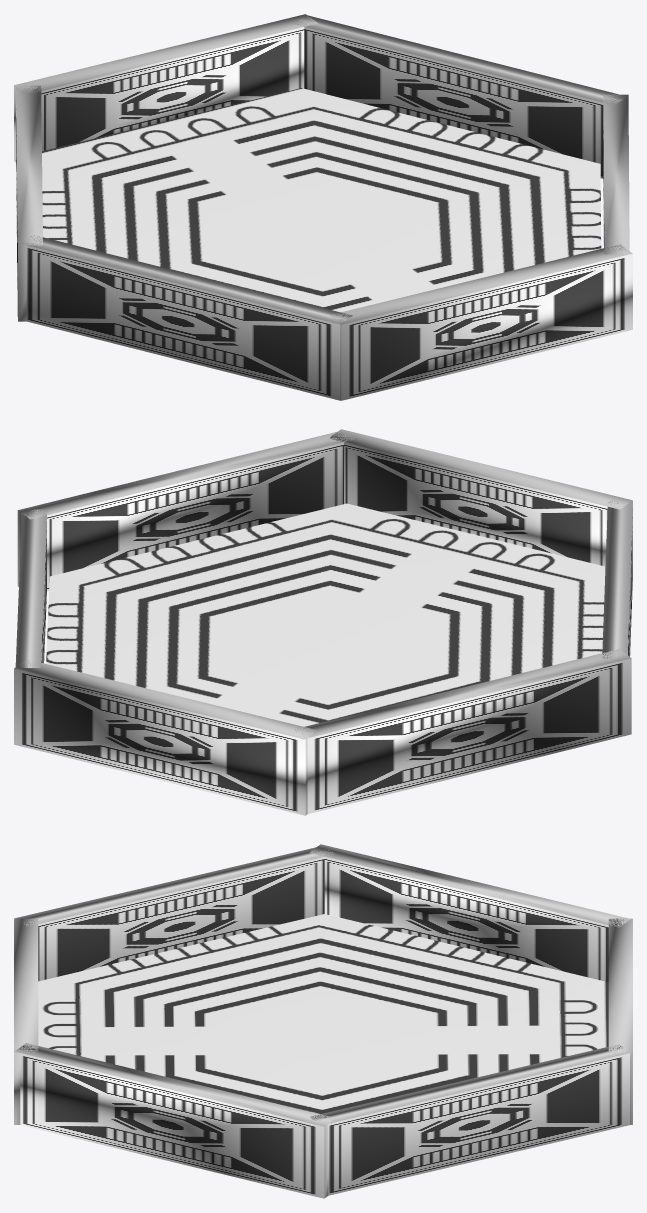
The model's file is plataformaMonstreFinal.fbx.
3 views of the same model, one above another, from view 1: azimuth 30°, elevation 25°; view 2: azimuth 150°, elevation 25°; view 3: azimuth 270°, elevation 25° (orthographic). The views are drawn at different scales.
Parts seen in each view (by area): view 1: Cube_006, Cube; view 2: Cube_006, Cube; view 3: Cube_006, Cube.
Part boxes in pixels (<box>): Cube_006: <box>14,14,632,400</box>; Cube: <box>42,88,601,312</box>; Cube_006: <box>14,429,632,815</box>; Cube: <box>46,503,605,726</box>; Cube_006: <box>14,844,632,1198</box>; Cube: <box>38,914,608,1114</box>.
Size of the model in its own units: 65.08 by 7.73 by 60.23.
4 materials, 2 textured.
